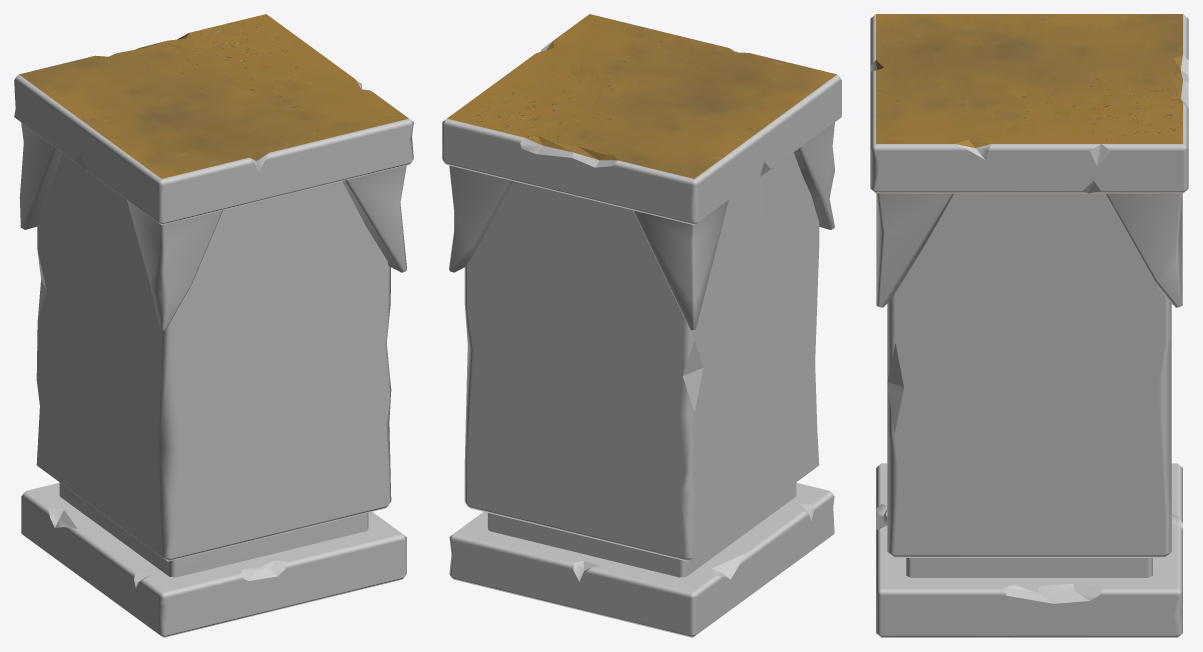
3 renders of one model, left to right at view 1: azimuth 30°, elevation 25°; view 2: azimuth 150°, elevation 25°; view 3: azimuth 270°, elevation 25°, orthographic. The views are drawn at different scales.
Visible parts, largest first — view 1: SM_Vault_2x1m_Column_01_LOD0; view 2: SM_Vault_2x1m_Column_01_LOD0; view 3: SM_Vault_2x1m_Column_01_LOD0.
Boxes of the visible parts, x1,y1,x2,y2 form: SM_Vault_2x1m_Column_01_LOD0: (14,14,413,637); SM_Vault_2x1m_Column_01_LOD0: (442,14,841,637); SM_Vault_2x1m_Column_01_LOD0: (870,14,1188,637).
Size of the model in its own units: 1.16 by 2 by 1.16.
